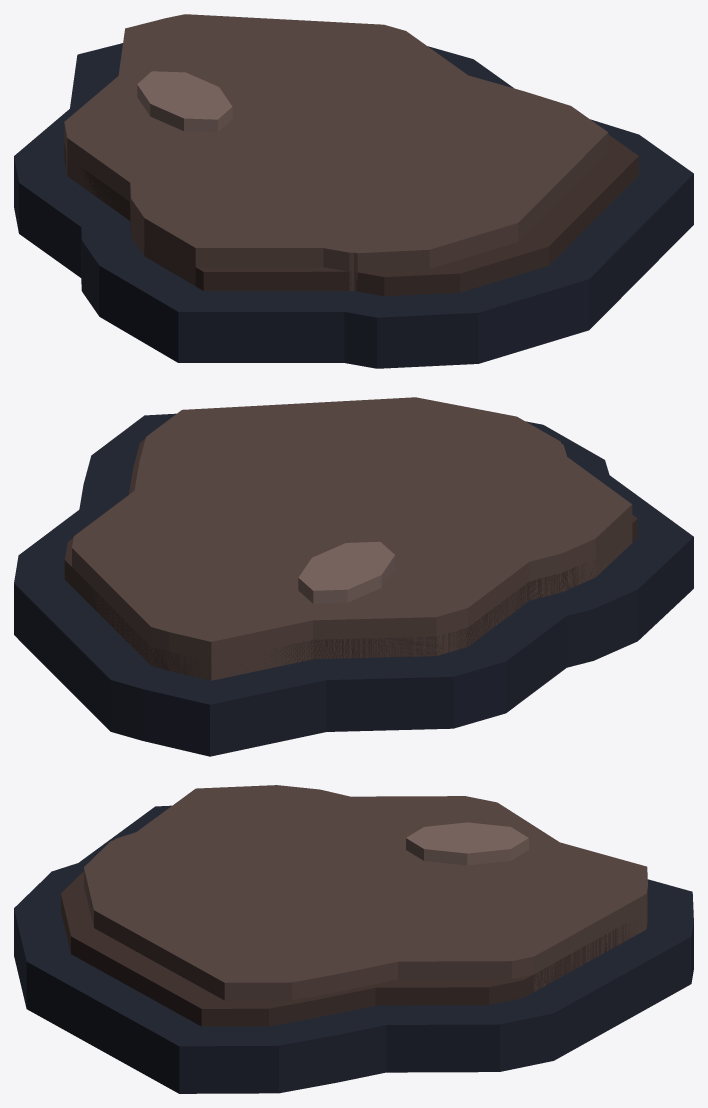
The model's file is boar_fur.fbx.
The picture shows the model from 3 angles, top to bottom: view 1: azimuth 30°, elevation 25°; view 2: azimuth 150°, elevation 25°; view 3: azimuth 270°, elevation 25°; orthographic projection. The views are drawn at different scales.
Visible parts, largest first — view 1: boar_fur; view 2: boar_fur; view 3: boar_fur.
Part boxes in pixels (x1,y1,x2,y2): boar_fur: (14,14,693,368); boar_fur: (14,397,693,756); boar_fur: (14,785,693,1093).
Bounding box in the file's own units: 0.8846 × 0.16 × 1.04.
1 material, 1 textured.
